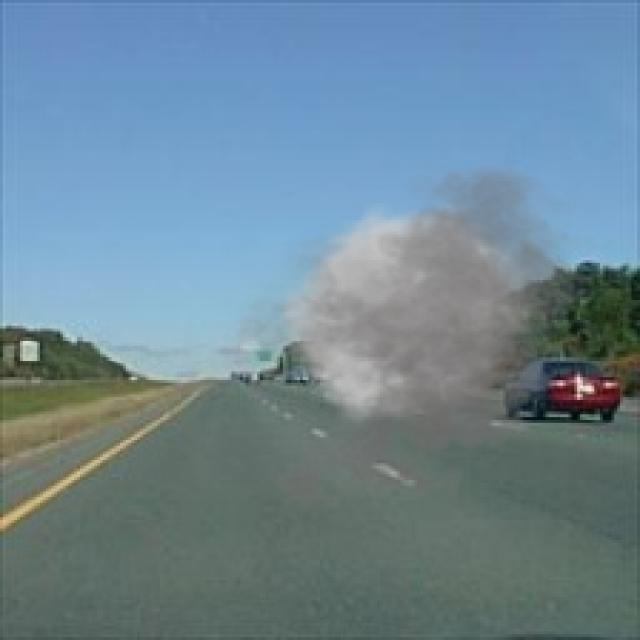smoke: (211, 151, 606, 520)
